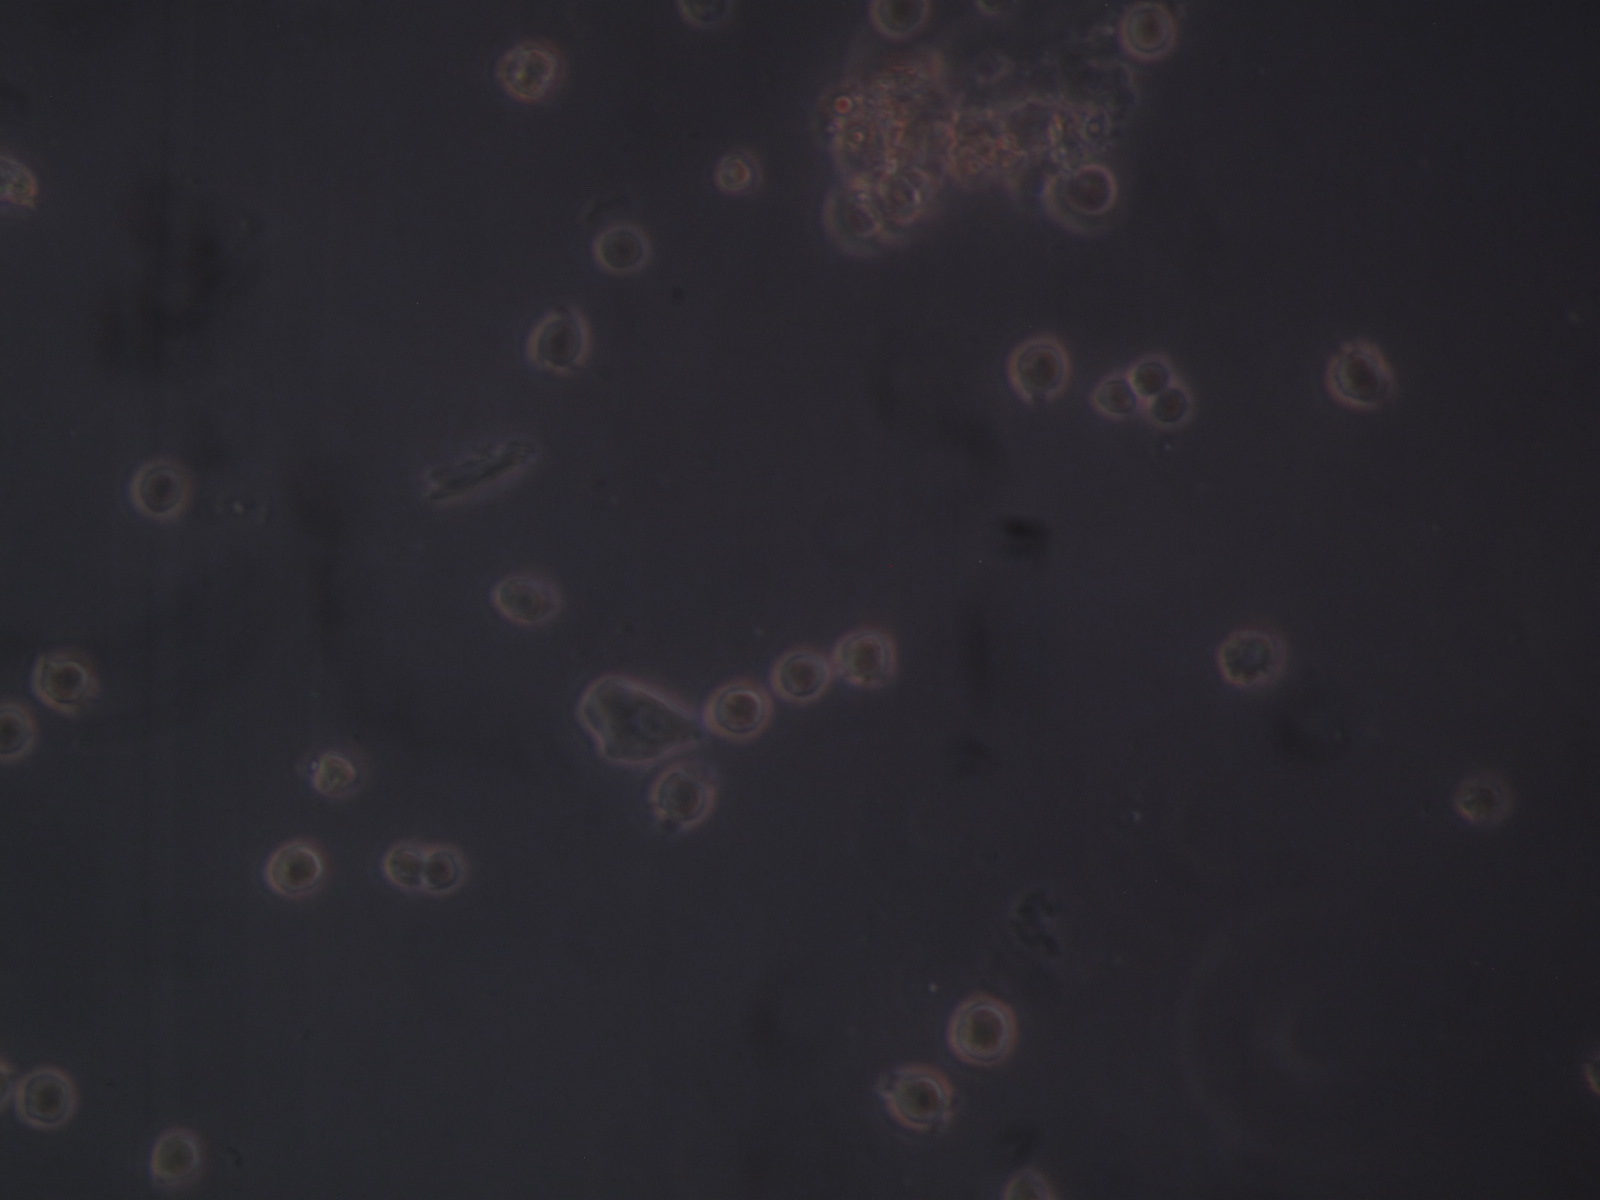hemo: (1042, 164, 1117, 236), (949, 995, 1018, 1066), (823, 178, 884, 257), (884, 1063, 956, 1129), (1327, 340, 1393, 408), (651, 768, 716, 832), (525, 313, 592, 373), (1007, 335, 1068, 400), (834, 628, 897, 688), (706, 682, 769, 742), (18, 1068, 77, 1132), (1220, 628, 1284, 686), (129, 460, 191, 517), (1120, 3, 1175, 64), (772, 648, 830, 706), (491, 574, 559, 623), (498, 45, 556, 102), (265, 842, 325, 896), (31, 654, 92, 708), (1456, 771, 1516, 824), (593, 221, 651, 274), (152, 1126, 204, 1184), (1149, 382, 1196, 431), (717, 147, 763, 195), (310, 753, 360, 795), (1094, 372, 1139, 417), (427, 846, 467, 896), (383, 842, 426, 889), (869, 1, 926, 35), (1, 705, 37, 759), (1130, 352, 1173, 395)
